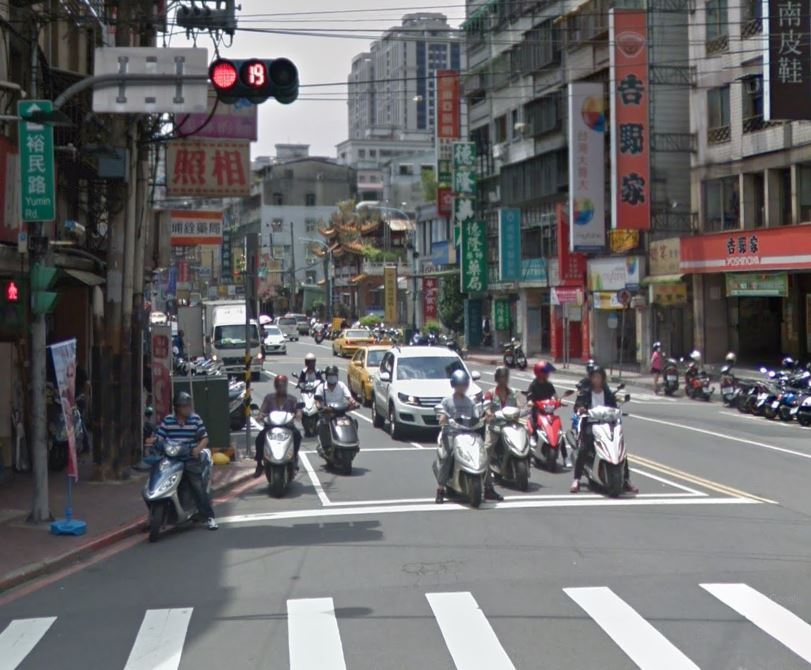Traffic_light_red: (208, 57, 301, 97)
motorcycle: (141, 421, 213, 545), (569, 391, 634, 496), (434, 403, 495, 510), (246, 401, 304, 496)
